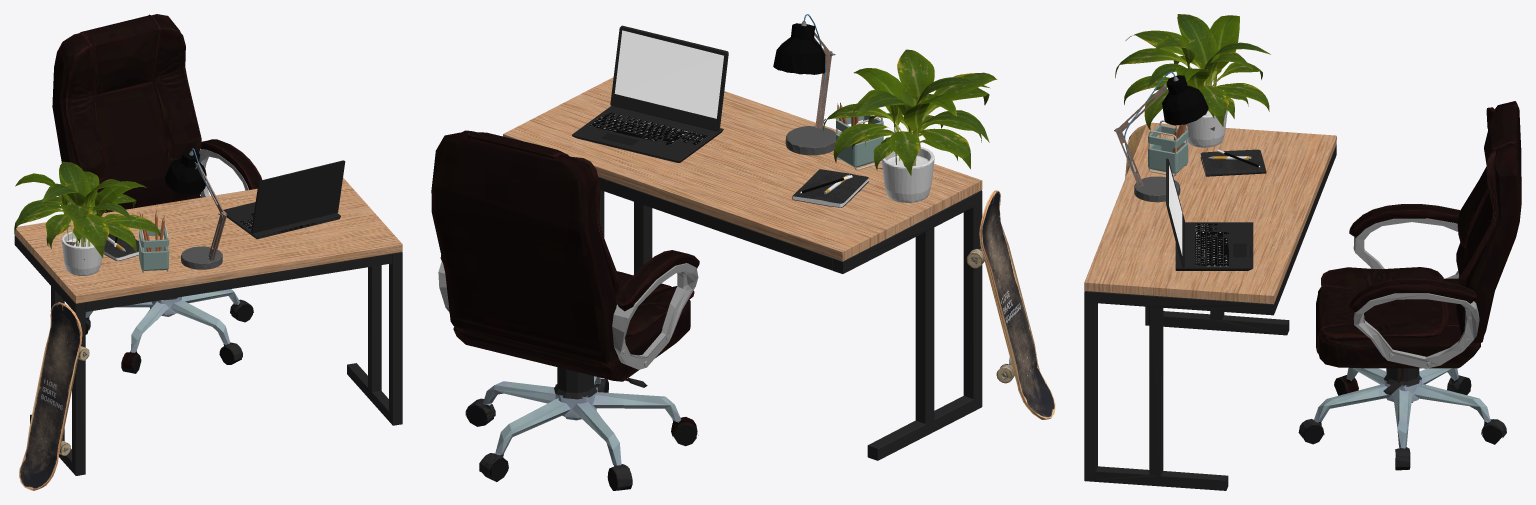
File: desk_tk_skate.glb
3 renders of one model, left to right at view 1: azimuth 30°, elevation 25°; view 2: azimuth 150°, elevation 25°; view 3: azimuth 270°, elevation 25°, orthographic. The views are drawn at different scales.
Visible parts, largest first — view 1: desk_joined, chair, skateboard, screen, keyboard; view 2: desk_joined, chair, screen, skateboard, keyboard; view 3: desk_joined, chair, keyboard, screen.
Boxes of the visible parts, <box> form: desk_joined: <box>14,148,402,475</box>; chair: <box>52,14,262,373</box>; skateboard: <box>19,302,89,490</box>; screen: <box>251,160,345,233</box>; keyboard: <box>223,202,340,239</box>; desk_joined: <box>503,14,997,460</box>; chair: <box>431,130,699,490</box>; screen: <box>610,25,728,131</box>; skateboard: <box>966,190,1055,419</box>; keyboard: <box>572,106,723,162</box>; desk_joined: <box>1084,14,1336,490</box>; chair: <box>1298,101,1521,470</box>; keyboard: <box>1175,222,1253,270</box>; screen: <box>1166,158,1184,267</box>.
Bounding box in the file's own units: 1.58 × 1.16 × 1.44.
Materials: 28 (15 with a texture image).
